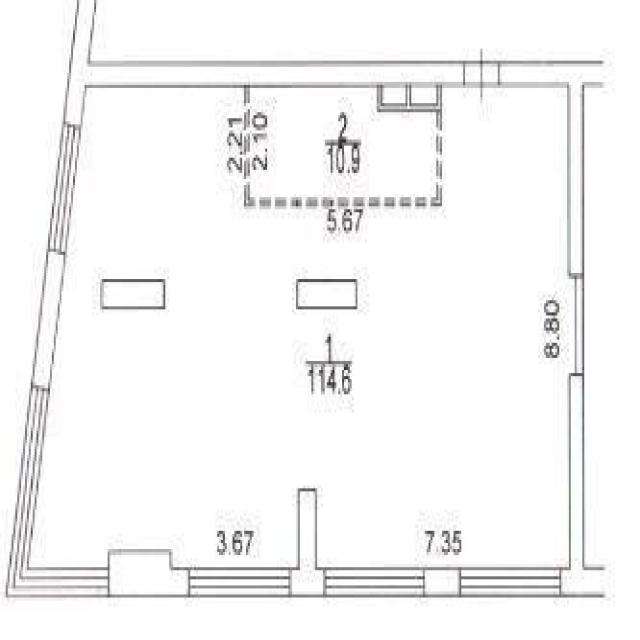Doors: (464, 47, 500, 109)
LBwalls: (30, 250, 67, 390), (61, 0, 97, 126), (107, 547, 188, 598), (291, 487, 325, 598), (100, 279, 165, 310), (297, 279, 357, 308), (426, 568, 460, 597)
Offices: (31, 90, 575, 568)
Walls: (501, 60, 604, 598), (86, 60, 464, 88)
Windows: (5, 386, 109, 598), (45, 124, 82, 254), (188, 567, 291, 597), (325, 568, 424, 598), (461, 568, 560, 598)
